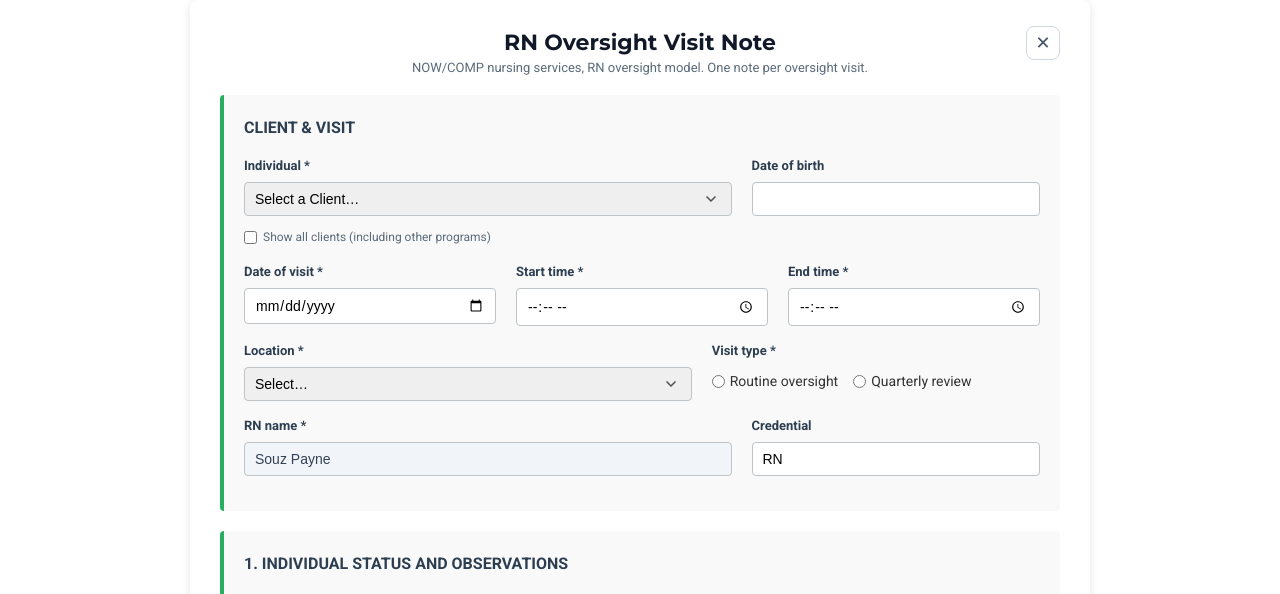
Test: OversightNotePage — documented vs. billable time › tells a NOW/COMP visit with no authorization on file to go through the office
Select "Neal Kelly" in the dropdown labelled "Individual *" at (488, 199), box [244, 182, 732, 216]
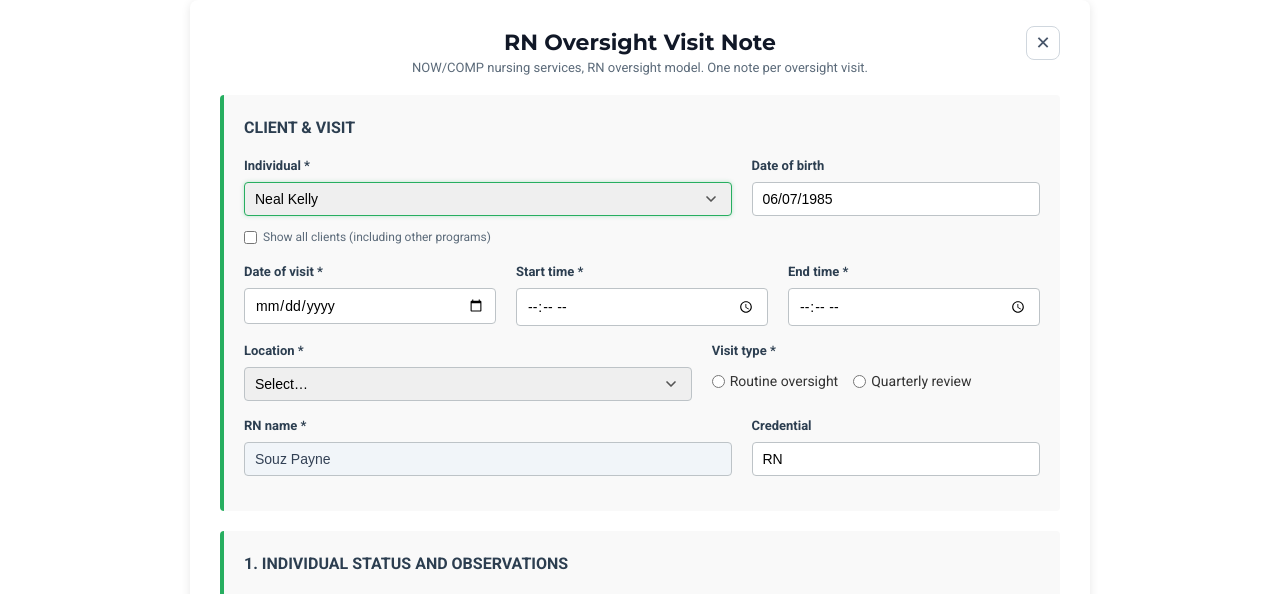
Type "2026-09-28" into the date field labelled "Date of visit *".
click(370, 306); type("2026-09-28")  # box [244, 288, 496, 324]
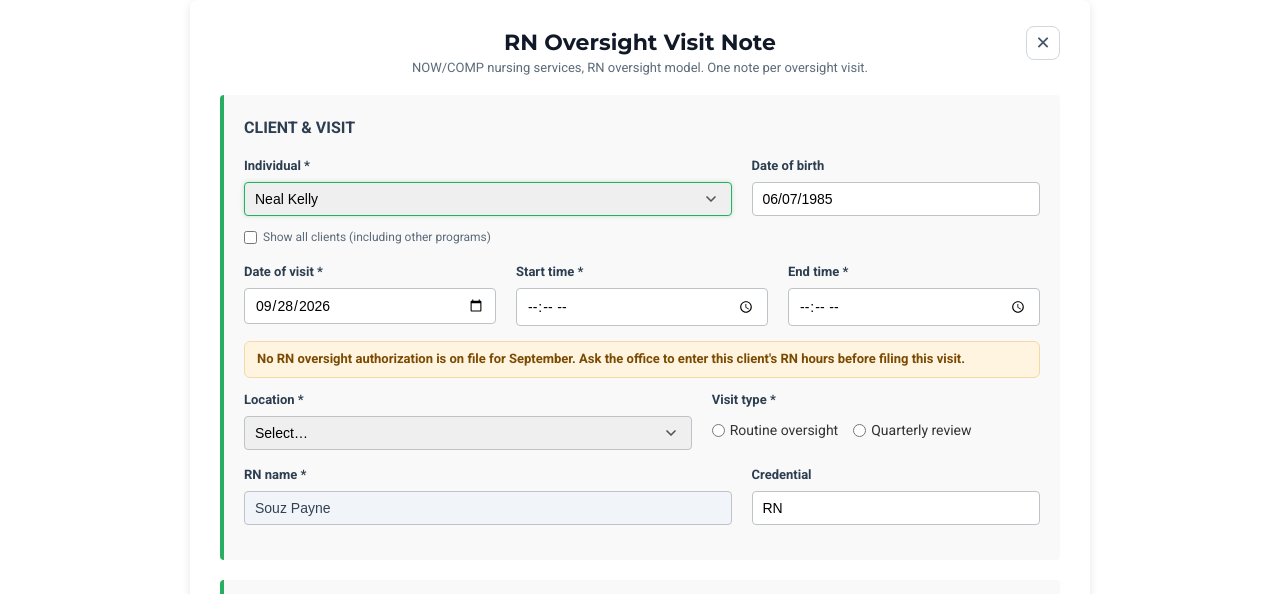
Check: the text "No RN oversight authorization is on file for September. Ask the office" is shown, box [257, 351, 965, 366]
